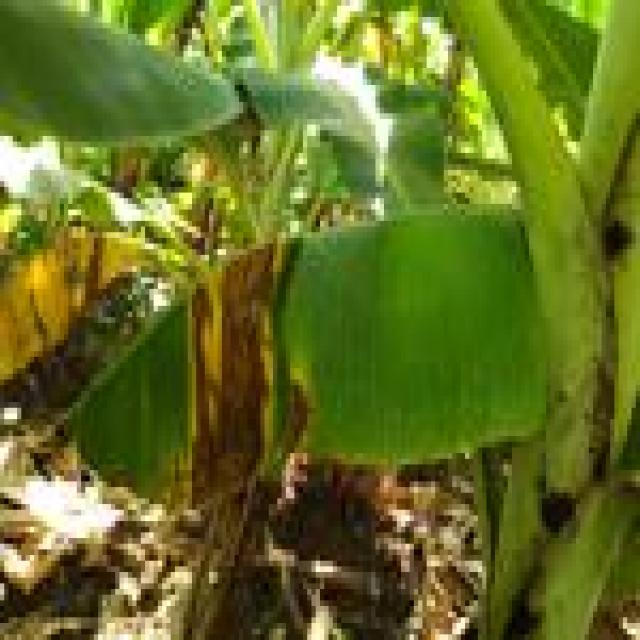Early_rust: (0, 150, 338, 525)
